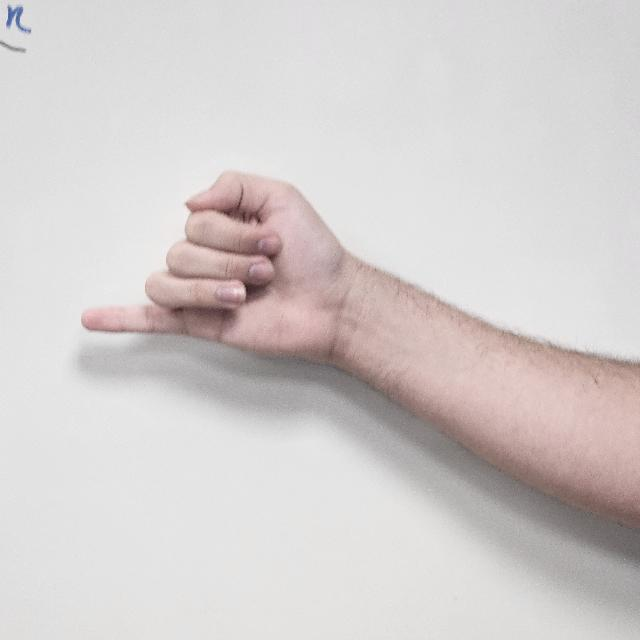Esquerda: (67, 166, 383, 417)
